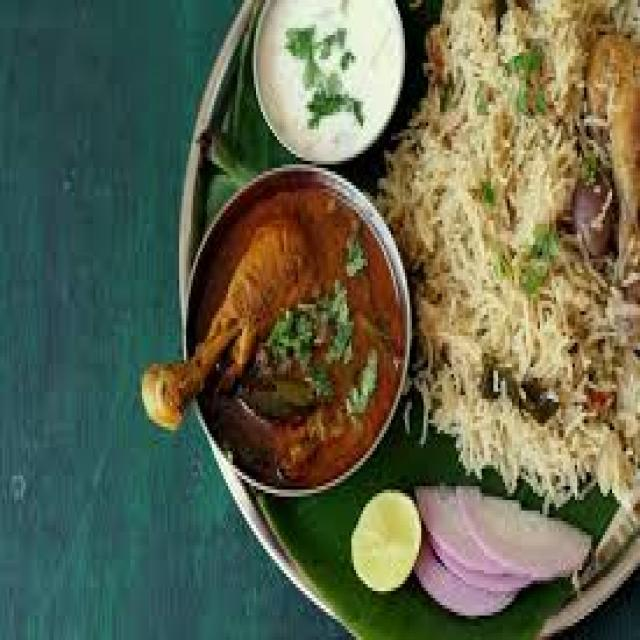Frango: (135, 178, 405, 486)
